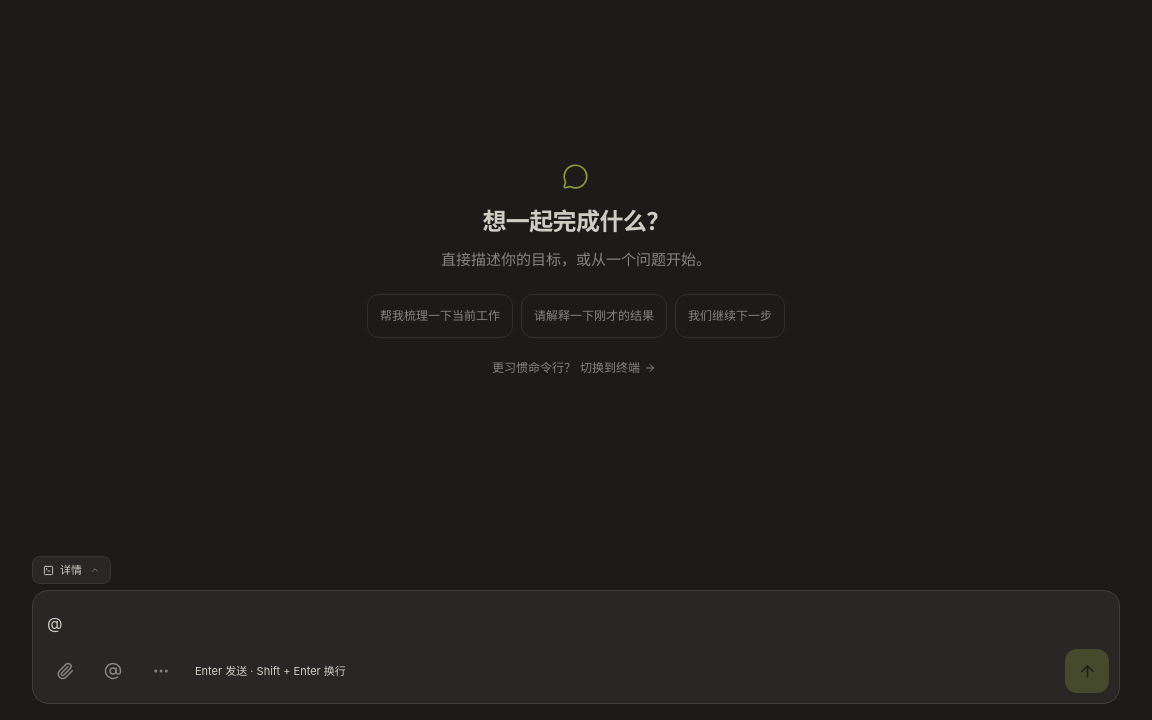
Test: keeps existing group context without duplicating its members as direct contacts
Expected: the heading "想一起完成什么？" is shown, [482, 206, 670, 238]
Clear the field at (55, 623), box [47, 613, 62, 633]
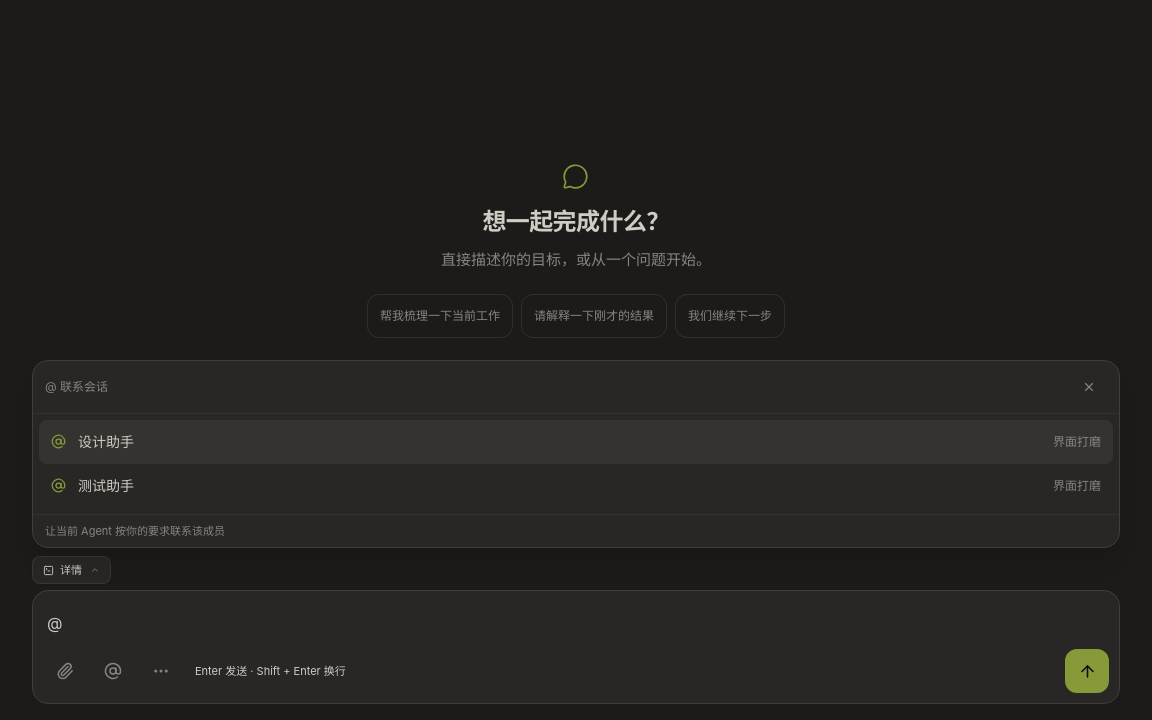
Now the number of options is 2, box [39, 420, 1113, 464]; [39, 464, 1113, 508]
